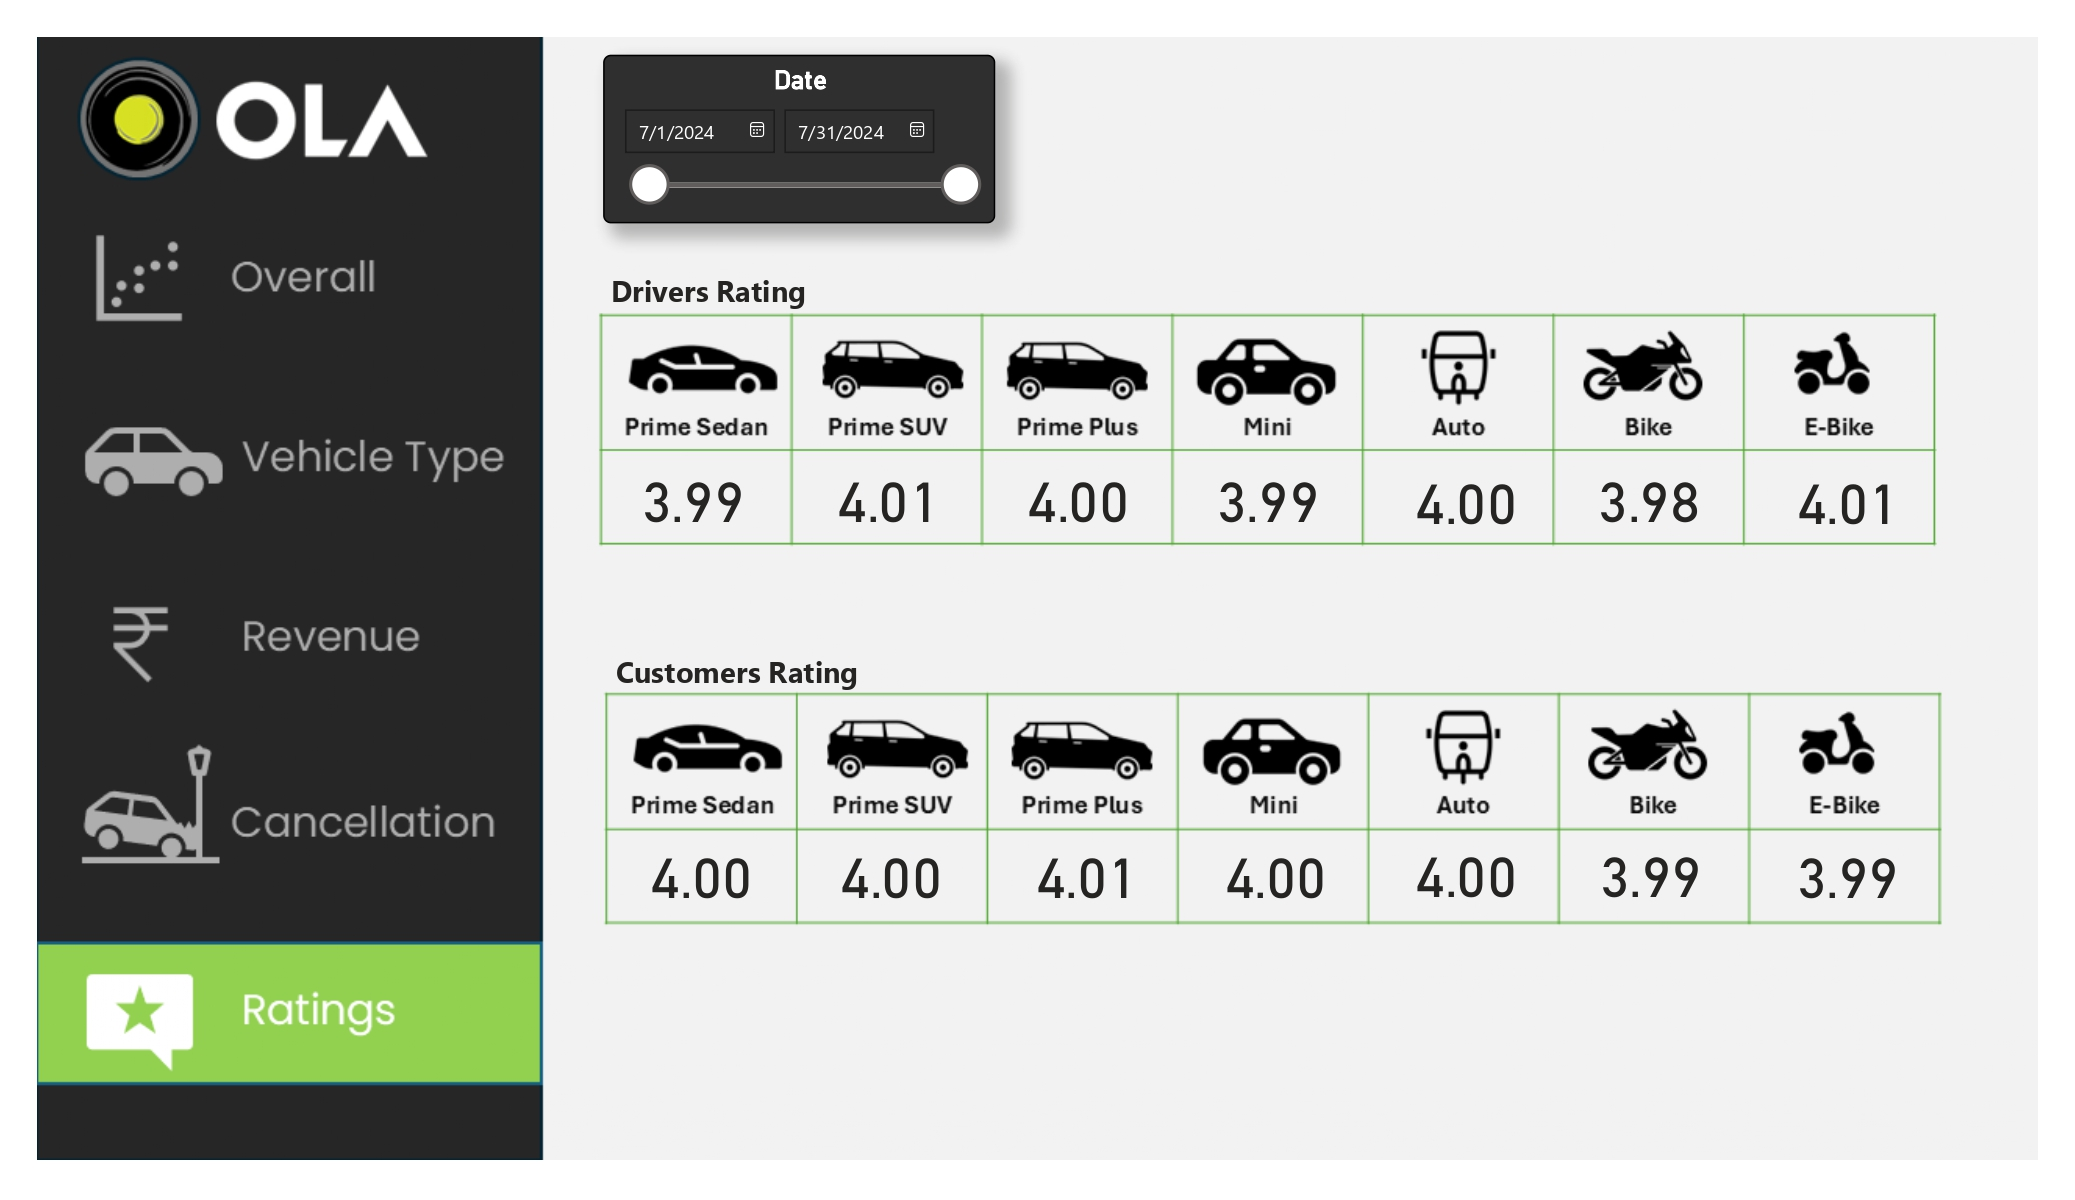

The dashboard page shown, as its layout file describes it:
{"tool":"powerbi","page":{"name":"RATINGS","canvas":[1280,720],"ordinal":4},"visuals":[{"type":"actionButton","box":[0,223.3,323.9,92],"z":0},{"type":"actionButton","box":[0,337.4,323.9,92],"z":1000},{"type":"actionButton","box":[0,457.7,323.9,92],"z":2000},{"type":"actionButton","box":[0,577.9,323.9,92],"z":3000},{"type":"actionButton","box":[0,109.2,323.9,92],"z":4000},{"type":"card","fields":{"Values":["Avg(July.Driver_Ratings)"]},"box":[356.4,264.1,126.9,60.3],"z":5000},{"type":"card","fields":{"Values":["Avg(July.Driver_Ratings)"]},"box":[480.8,264.1,126.9,60.3],"z":6000},{"type":"card","fields":{"Values":["Avg(July.Driver_Ratings)"]},"box":[602.6,264.1,126.9,60.3],"z":7000},{"type":"card","fields":{"Values":["Avg(July.Driver_Ratings)"]},"box":[724.4,264.1,126.9,60.3],"z":8000},{"type":"card","fields":{"Values":["Avg(July.Driver_Ratings)"]},"box":[1094.9,265.4,126.9,60.3],"z":9000},{"type":"card","fields":{"Values":["Avg(July.Driver_Ratings)"]},"box":[967.9,264.1,126.9,60.3],"z":10000},{"type":"card","fields":{"Values":["Avg(July.Driver_Ratings)"]},"box":[851.3,265.4,126.9,60.3],"z":11000},{"type":"card","fields":{"Values":["Avg(July.Customer_Rating)"]},"box":[361.5,505.1,126.9,60.3],"z":12000},{"type":"card","fields":{"Values":["Avg(July.Customer_Rating)"]},"box":[483.3,505.1,126.9,60.3],"z":13000},{"type":"card","fields":{"Values":["Avg(July.Customer_Rating)"]},"box":[607.7,505.1,126.9,60.3],"z":14000},{"type":"card","fields":{"Values":["Avg(July.Customer_Rating)"]},"box":[729.5,505.1,126.9,60.3],"z":15000},{"type":"card","fields":{"Values":["Avg(July.Customer_Rating)"]},"box":[851.3,503.8,126.9,60.3],"z":16000},{"type":"card","fields":{"Values":["Avg(July.Customer_Rating)"]},"box":[969.2,503.8,126.9,60.3],"z":17000},{"type":"card","fields":{"Values":["Avg(July.Customer_Rating)"]},"box":[1094.9,505.1,126.9,60.3],"z":18000},{"type":"textbox","box":[362,143.6,229.4,40.5],"z":19000},{"type":"textbox","box":[365.4,388.5,234.6,41],"z":20000},{"type":"slicer","title":"Date ","fields":{"Values":["July.Date"]},"box":[362.3,11,251.1,108.4],"z":21000}]}

Visuals, with their boxes on the page's 1280x720 design canvas (x1, y1, x2, y2). These are canvas units, not pixel positions in the 2075x1200 screenshot, which may show the page scaled, cropped or inside an application window:
actionButton: rect(0, 223, 324, 315)
actionButton: rect(0, 337, 324, 429)
actionButton: rect(0, 458, 324, 550)
actionButton: rect(0, 578, 324, 670)
actionButton: rect(0, 109, 324, 201)
card - Avg(July.Driver_Ratings): rect(356, 264, 483, 324)
card - Avg(July.Driver_Ratings): rect(481, 264, 608, 324)
card - Avg(July.Driver_Ratings): rect(603, 264, 730, 324)
card - Avg(July.Driver_Ratings): rect(724, 264, 851, 324)
card - Avg(July.Driver_Ratings): rect(1095, 265, 1222, 326)
card - Avg(July.Driver_Ratings): rect(968, 264, 1095, 324)
card - Avg(July.Driver_Ratings): rect(851, 265, 978, 326)
card - Avg(July.Customer_Rating): rect(362, 505, 488, 565)
card - Avg(July.Customer_Rating): rect(483, 505, 610, 565)
card - Avg(July.Customer_Rating): rect(608, 505, 735, 565)
card - Avg(July.Customer_Rating): rect(730, 505, 856, 565)
card - Avg(July.Customer_Rating): rect(851, 504, 978, 564)
card - Avg(July.Customer_Rating): rect(969, 504, 1096, 564)
card - Avg(July.Customer_Rating): rect(1095, 505, 1222, 565)
textbox: rect(362, 144, 591, 184)
textbox: rect(365, 388, 600, 430)
"Date " slicer: rect(362, 11, 613, 119)
